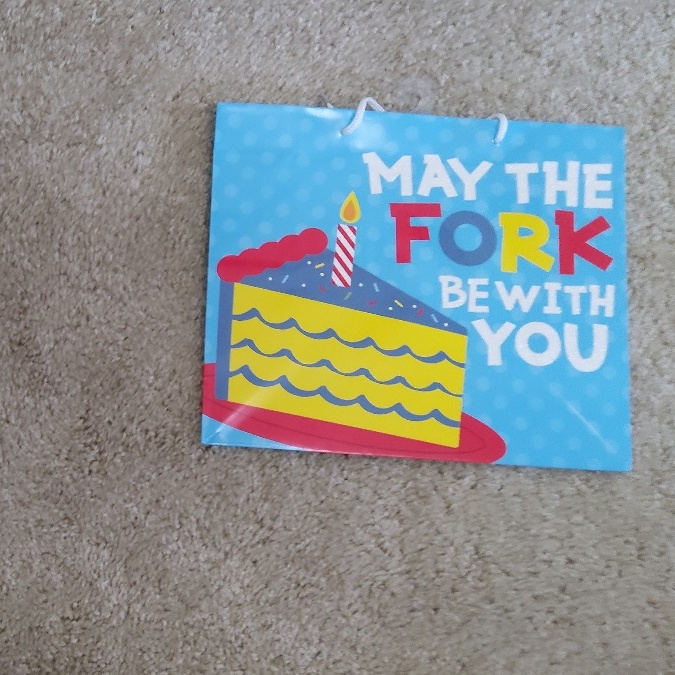paper_bag: (219, 112, 619, 463)
